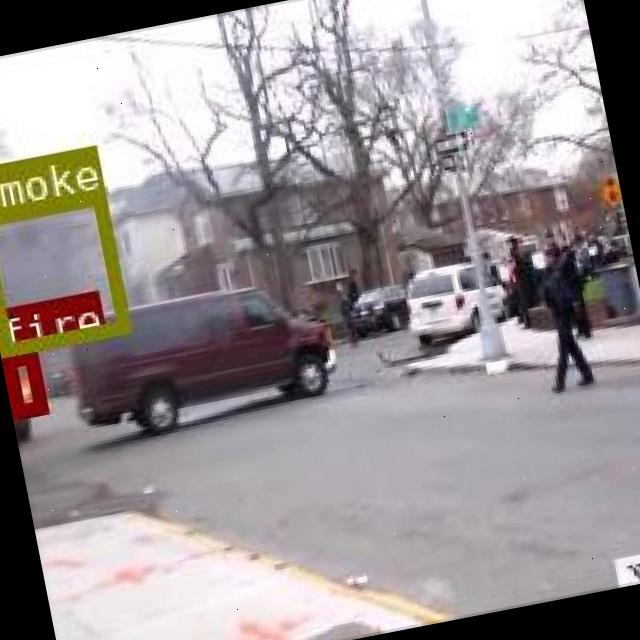fire: (1, 347, 44, 418)
smoke: (0, 189, 127, 354)
